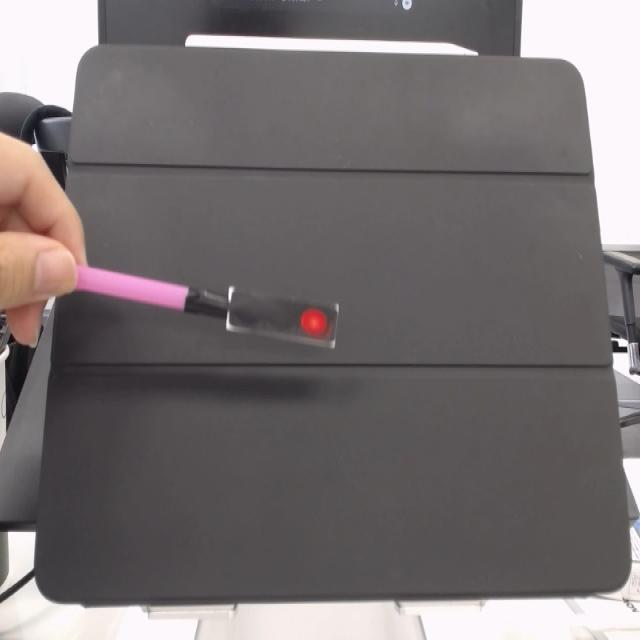traffic light: (225, 284, 341, 356)
